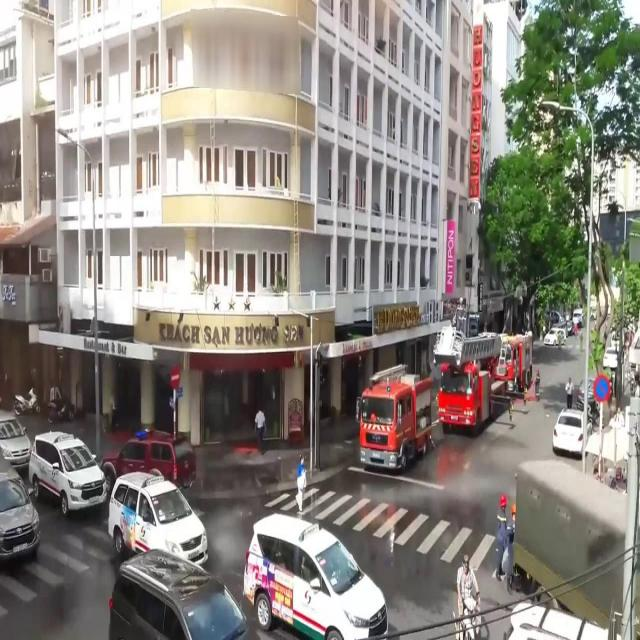car: (245, 508, 390, 638), (106, 546, 245, 640), (109, 471, 207, 571), (29, 428, 105, 516), (98, 429, 192, 490), (0, 469, 40, 564), (550, 407, 588, 452), (0, 411, 29, 468)
motorcycle: (453, 552, 481, 640)
truck: (514, 460, 640, 630), (358, 362, 432, 467), (434, 326, 506, 430), (497, 332, 533, 390)
